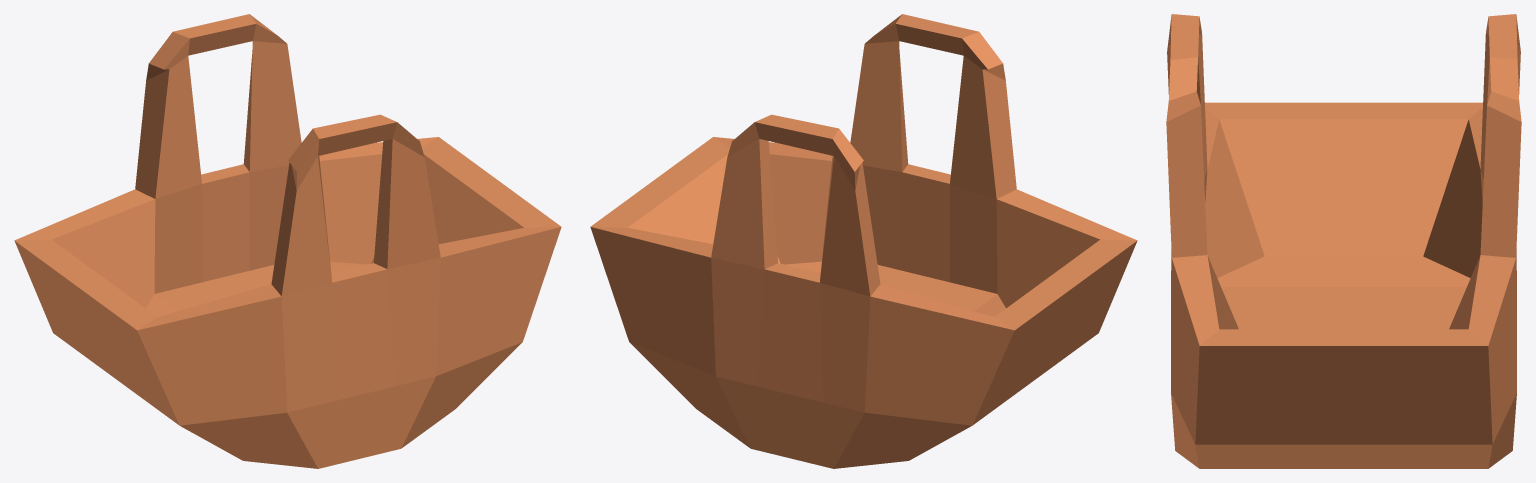
Rendered from Basket.fbx.
The picture shows the model from 3 angles, left to right: view 1: azimuth 30°, elevation 25°; view 2: azimuth 150°, elevation 25°; view 3: azimuth 270°, elevation 25°; orthographic projection. The views are drawn at different scales.
Visible parts, largest first — view 1: Cube.001; view 2: Cube.001; view 3: Cube.001.
Part boxes in pixels (x1=…): Cube.001: x1=14, y1=14, x2=561, y2=468; Cube.001: x1=590, y1=14, x2=1137, y2=468; Cube.001: x1=1166, y1=14, x2=1521, y2=468.
Bounding box in the file's own units: 341 × 255 × 210.
